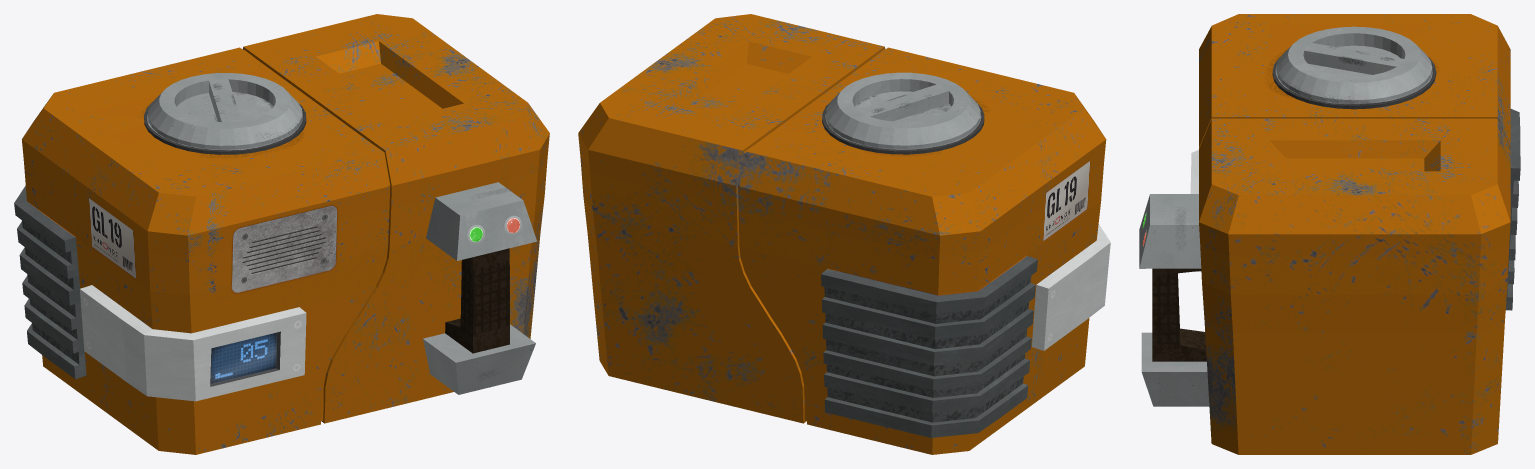
Rendered from futuristic-chest.glb.
3 views of the same model, side by side, from view 1: azimuth 30°, elevation 25°; view 2: azimuth 150°, elevation 25°; view 3: azimuth 270°, elevation 25° (orthographic).
Visible parts, largest first — view 1: Chest; view 2: Chest; view 3: Chest.
Part boxes in pixels (bbox=[...]): Chest: bbox=[14, 14, 549, 454]; Chest: bbox=[578, 14, 1110, 454]; Chest: bbox=[1139, 14, 1520, 454].
Bounding box in the file's own units: 3.32 × 2.25 × 2.66.
Materials: 1 (1 with a texture image).
